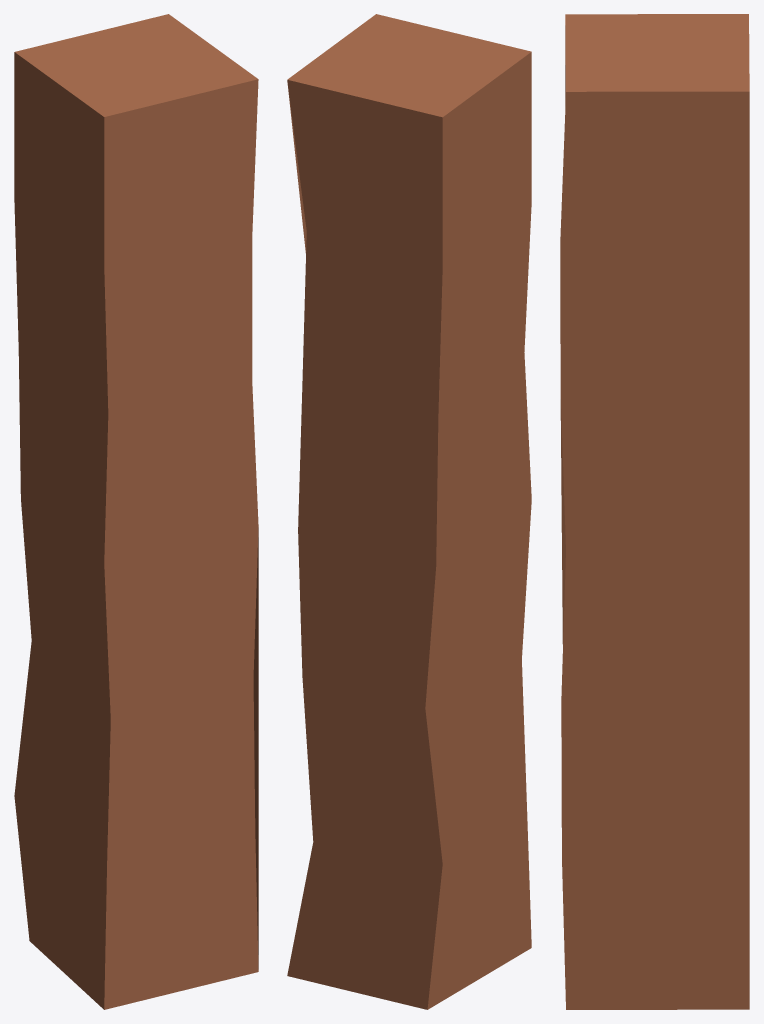
Rendered from Log_Column.fbx.
3 views of the same model, side by side, from view 1: azimuth 30°, elevation 25°; view 2: azimuth 150°, elevation 25°; view 3: azimuth 270°, elevation 25° (orthographic). The views are drawn at different scales.
Parts seen in each view (by area): view 1: Log_Column; view 2: Log_Column; view 3: Log_Column.
Boxes of the visible parts, bbox=[...] form: Log_Column: bbox=[14, 14, 258, 1009]; Log_Column: bbox=[287, 14, 531, 1009]; Log_Column: bbox=[560, 14, 749, 1009].
Size of the model in its own units: 2.01 by 11.04 by 2.06.
